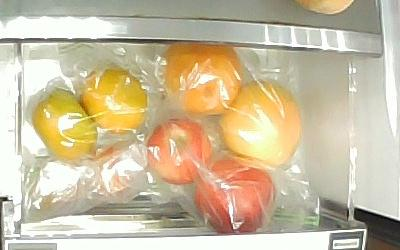apple_vinyl: (194, 160, 276, 233), (148, 119, 213, 186)
grapefruit_vinyl: (220, 81, 302, 168), (162, 46, 242, 116)
persimmon_vinyl: (32, 90, 98, 161), (79, 68, 147, 135)
